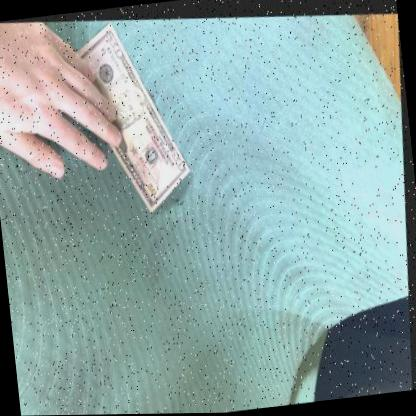fifty-front: (61, 20, 191, 211)
